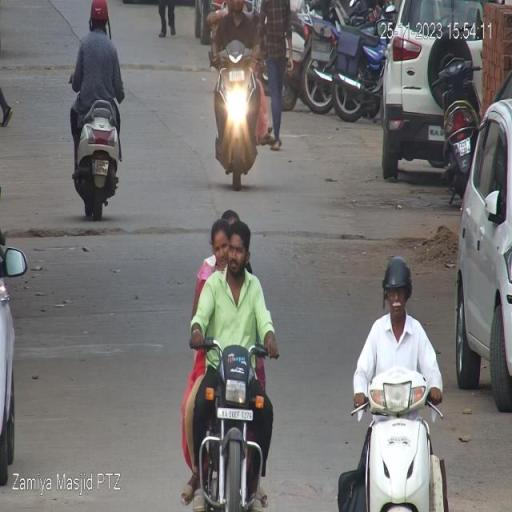tripple riding: (184, 204, 281, 386)
